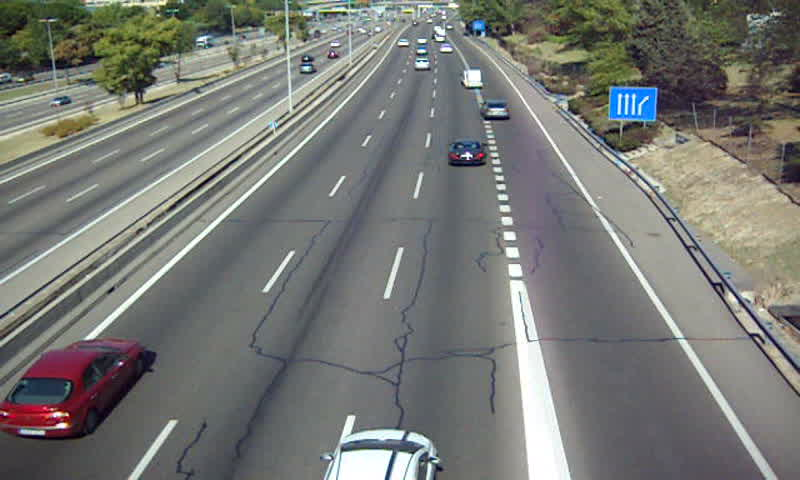car: (1, 341, 142, 438), (448, 140, 485, 167), (481, 99, 510, 121), (414, 58, 430, 70)
van: (462, 68, 482, 87)
